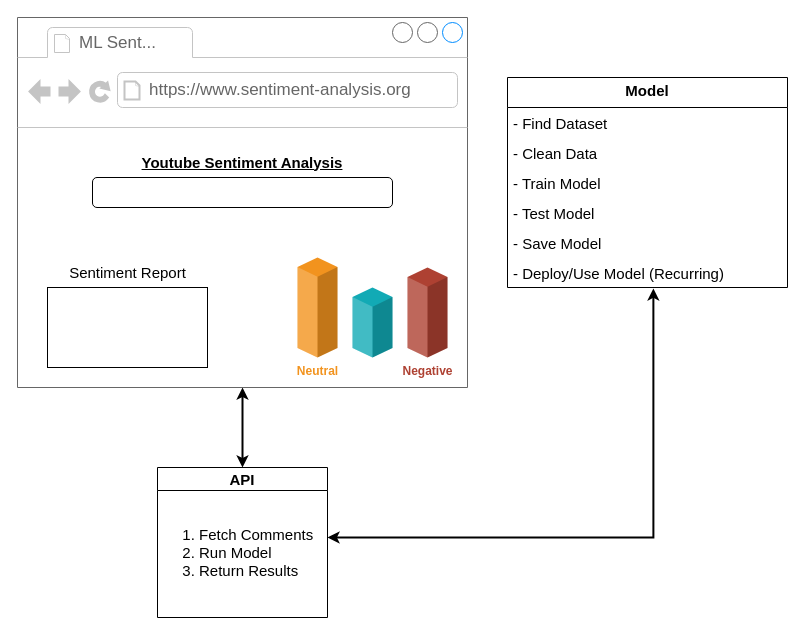
The diagram is 805 pixels wide and 635 high, and some of its shapes have lost their labels. The centre of each missing label's shape, as x and y in pixels:
50% Neutral 20% Positive 30% Negative: the point at 127,327
https://youtube.com/your-video-url: the point at 242,192
Positive: the point at 372,322
